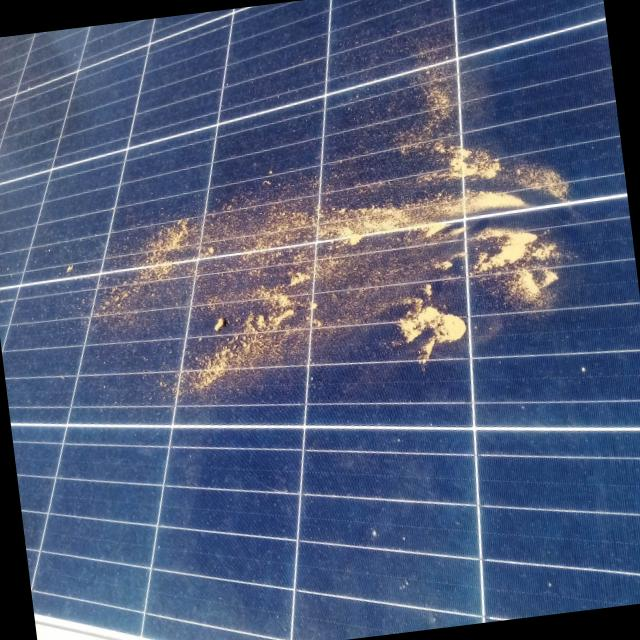faulty: (7, 0, 640, 556)
